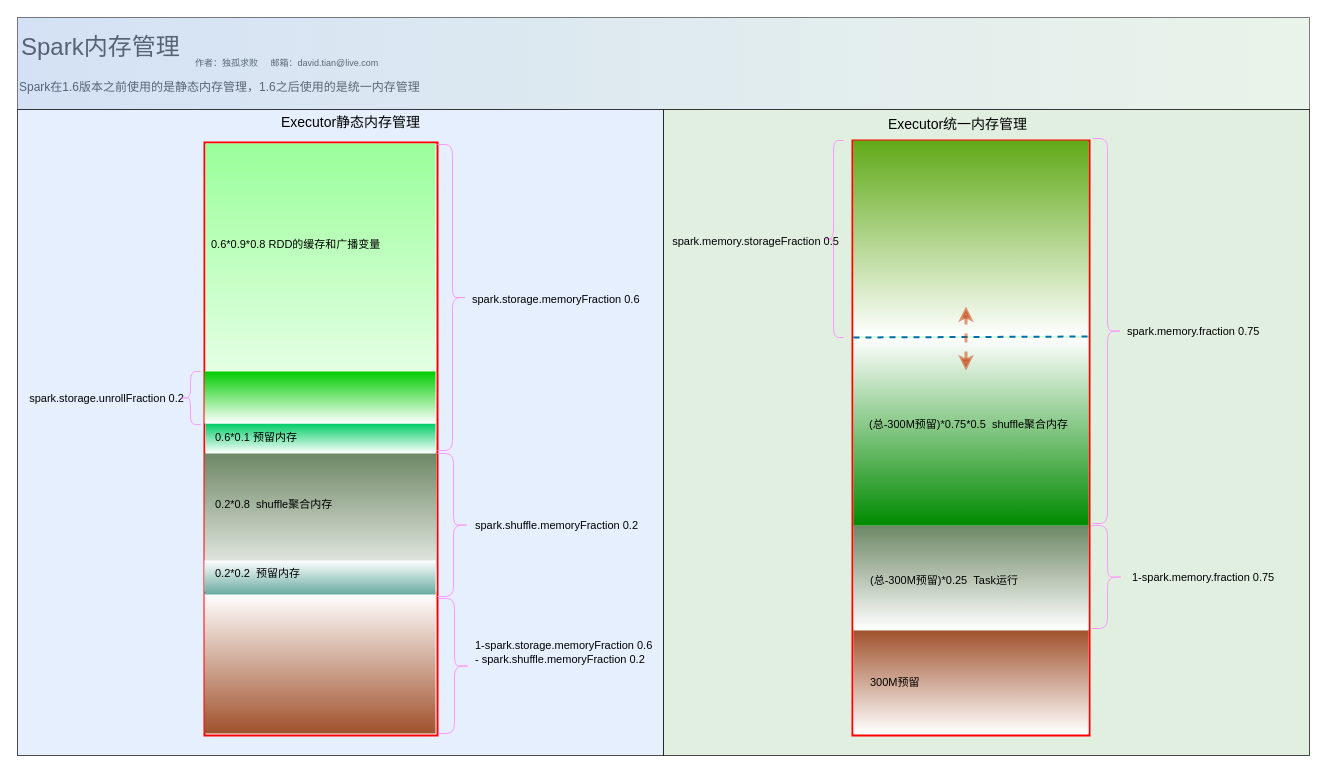
This 1327x773 diagram has some shape labels left out. Each missing label, with the centre of its shape:
"(总-300M预留)*0.75*0.5 RDD的缓存和广播变量" goes at point (970, 238).
"0.2 task运行" goes at point (319, 663).
"0.6*0.9*0.2 反序列化" goes at point (319, 397).
